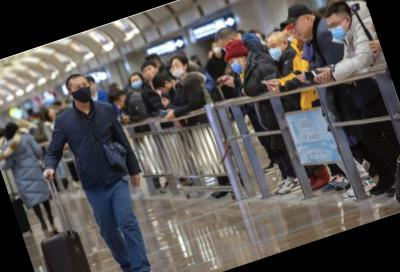mask_weared_incorrect: (169, 59, 187, 79)
with_mask: (325, 15, 351, 43), (69, 79, 95, 105), (266, 39, 286, 62), (228, 55, 246, 75), (129, 75, 145, 91), (211, 42, 223, 55)
without_mask: (289, 16, 314, 42), (141, 64, 158, 81), (157, 83, 173, 97), (115, 98, 128, 110)
